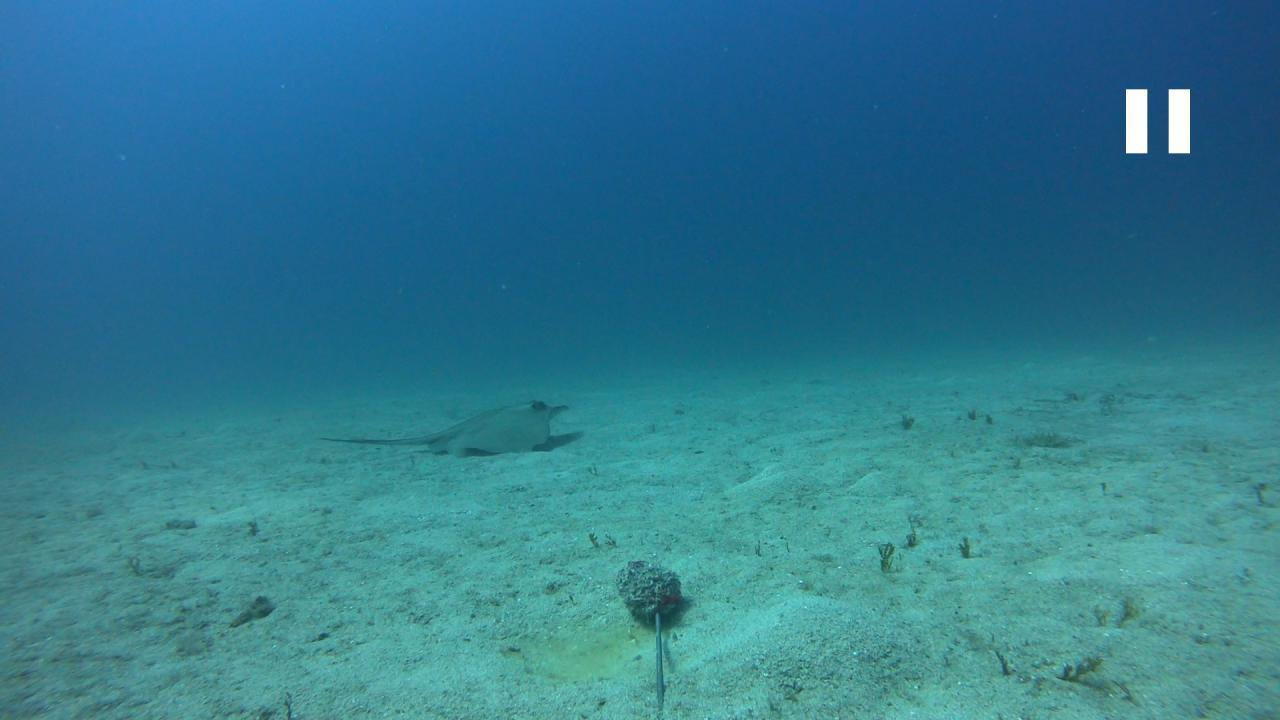dasyatis: (317, 399, 568, 459)
